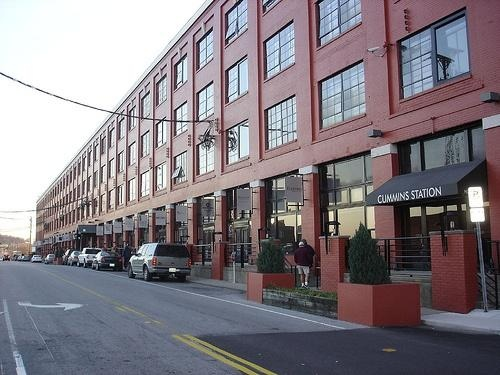car: (125, 241, 195, 284), (91, 250, 126, 274), (81, 248, 105, 268)
